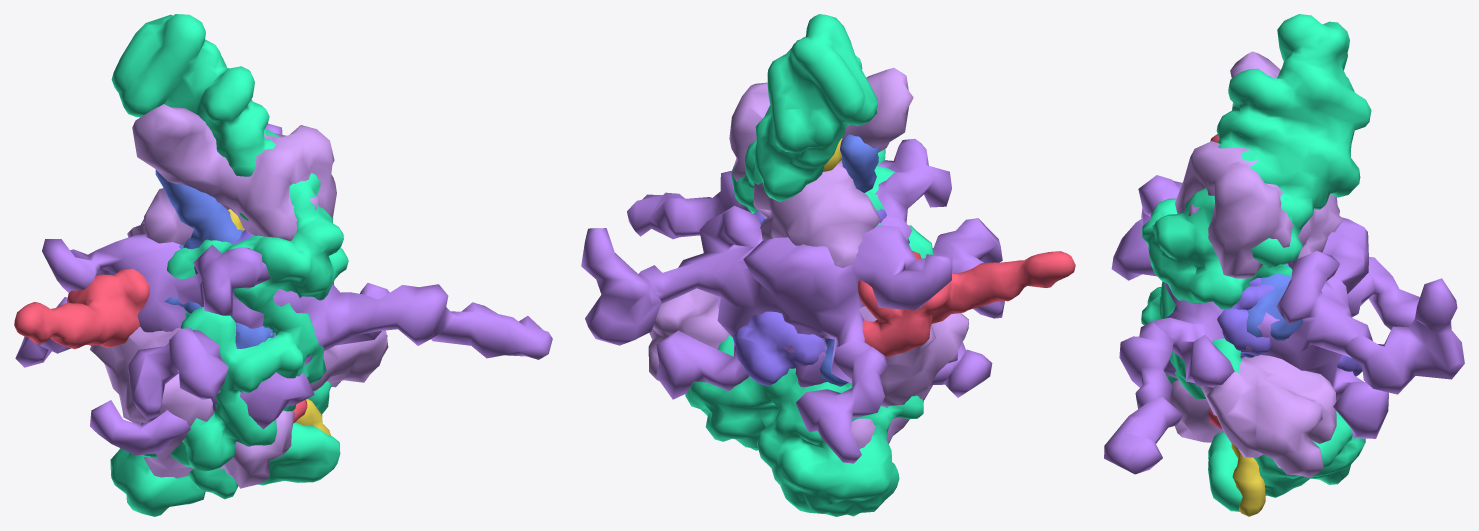
The model's file is cohesion_pdb.glb.
The picture shows the model from 3 angles, left to right: view 1: azimuth 30°, elevation 25°; view 2: azimuth 150°, elevation 25°; view 3: azimuth 270°, elevation 25°; orthographic projection. The views are drawn at different scales.
Parts seen in each view (by area): view 1: coh_separase, coh_histones, coh_stag1, coh_rad21n, coh_smc1, coh_hinge1, coh_securin; view 2: coh_histones, coh_separase, coh_stag1, coh_rad21n, coh_hinge2, coh_smc1; view 3: coh_histones, coh_separase, coh_stag1, coh_smc1, coh_securin, coh_smc3, coh_hinge2.
Part boxes in pixels (x1,y1,x2,y2): coh_separase: (110,14,348,516); coh_histones: (15,123,552,455); coh_stag1: (90,104,388,488); coh_rad21n: (14,268,149,349); coh_smc1: (155,169,242,249); coh_hinge1: (164,244,274,348); coh_securin: (228,209,330,435); coh_histones: (581,138,1004,463); coh_separase: (685,14,933,516); coh_stag1: (648,67,968,448); coh_rad21n: (858,251,1075,357); coh_hinge2: (732,211,827,385); coh_smc1: (760,134,879,386); coh_histones: (1104,175,1464,474); coh_separase: (1141,14,1371,511); coh_stag1: (1169,51,1343,477); coh_smc1: (1240,263,1303,357); coh_securin: (1231,443,1265,516); coh_smc3: (1217,278,1272,355); coh_hinge2: (1222,284,1362,376).
Size of the model in its own units: 18.43 by 17.57 by 12.16.
